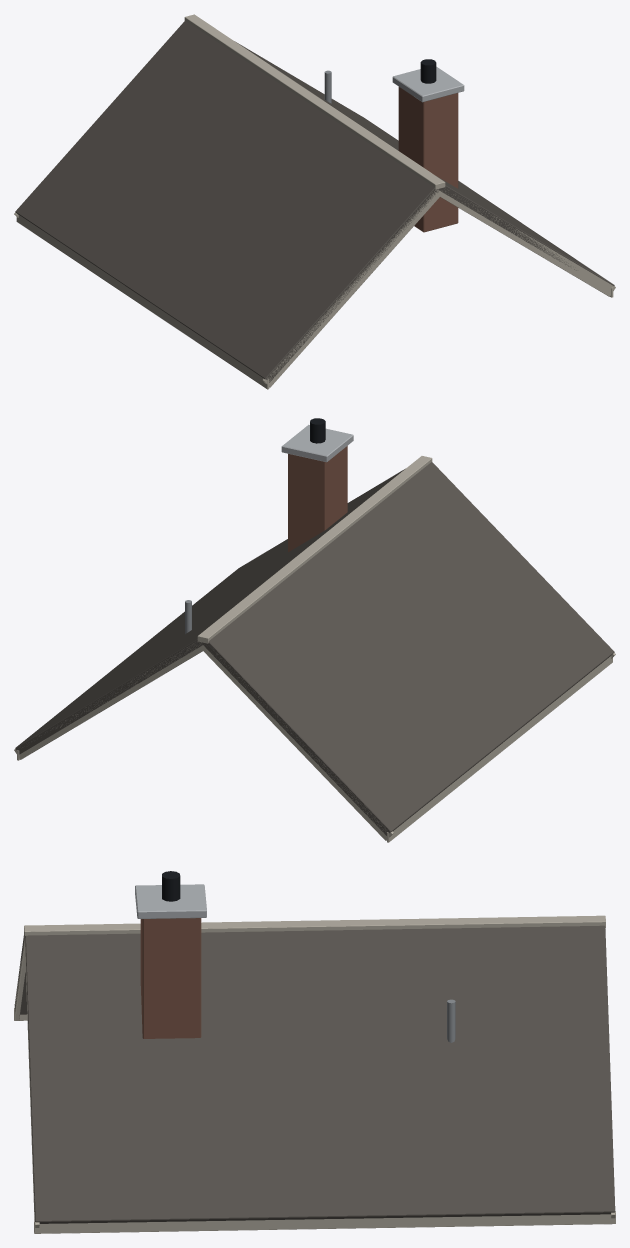
Rendered from house7_roof.glb.
The picture shows the model from 3 angles, top to bottom: view 1: azimuth 30°, elevation 25°; view 2: azimuth 150°, elevation 25°; view 3: azimuth 270°, elevation 25°; orthographic projection. The views are drawn at different scales.
Parts seen in each view (by area): view 1: house7_roof; view 2: house7_roof; view 3: house7_roof.
Boxes of the visible parts, x1,y1,x2,y2 form: house7_roof: (14, 14, 615, 389); house7_roof: (14, 418, 615, 842); house7_roof: (14, 871, 615, 1233).
Bounding box in the file's own units: 7.33 × 4.21 × 8.19.
